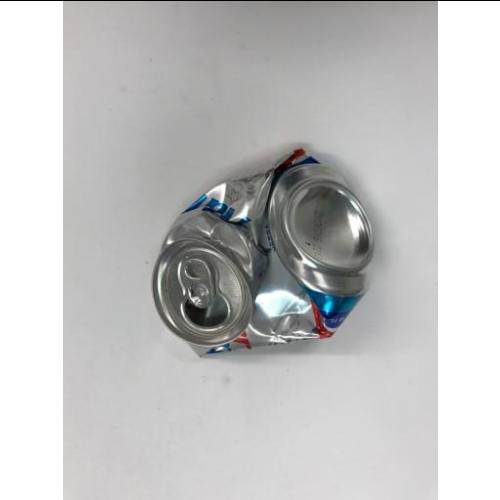metal: (165, 148, 373, 358)
